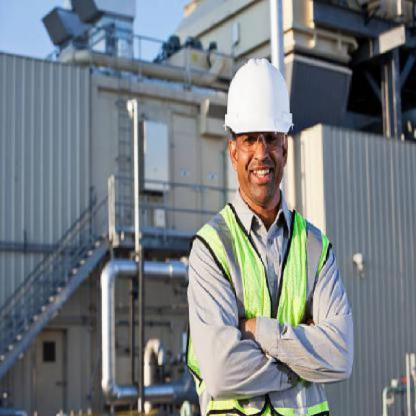glass: (225, 132, 287, 160)
person: (169, 45, 368, 412)
vest-helm: (174, 198, 340, 412)
white-helm: (219, 53, 302, 147)
